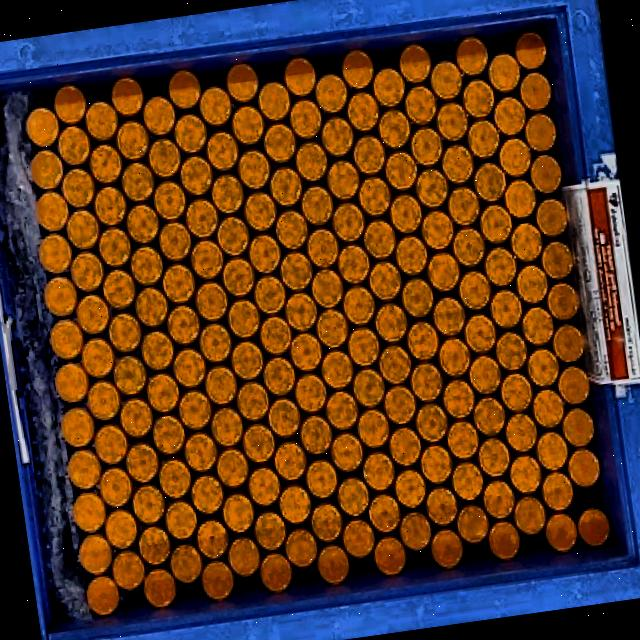vial: (456, 503, 490, 545), (484, 246, 518, 287), (452, 226, 486, 267), (85, 100, 119, 141), (567, 448, 601, 489), (577, 507, 611, 548), (482, 479, 516, 520), (514, 30, 548, 70), (521, 306, 555, 346), (458, 270, 492, 310), (404, 85, 438, 125), (263, 123, 297, 163), (231, 105, 265, 145), (236, 381, 270, 421), (179, 155, 213, 195), (185, 198, 219, 238), (178, 390, 212, 430), (116, 120, 150, 160), (89, 144, 123, 184), (26, 107, 60, 147), (62, 168, 96, 208), (81, 338, 115, 378), (87, 381, 121, 421), (513, 495, 547, 535), (425, 486, 459, 526), (242, 424, 276, 464), (184, 432, 218, 472), (195, 519, 229, 559), (132, 484, 166, 524), (143, 568, 177, 608), (99, 467, 133, 507), (67, 450, 101, 490), (456, 36, 489, 77), (546, 281, 579, 322), (347, 91, 380, 132), (358, 176, 391, 217), (268, 397, 301, 438), (39, 233, 72, 274), (50, 319, 83, 360), (279, 484, 312, 525), (285, 528, 318, 569), (228, 536, 261, 577), (79, 534, 112, 575), (87, 575, 120, 616), (515, 265, 549, 304), (113, 356, 147, 395), (53, 85, 87, 124), (55, 363, 89, 402), (487, 521, 521, 560), (430, 529, 464, 568), (259, 553, 293, 592), (488, 53, 521, 93), (399, 43, 432, 83), (519, 71, 552, 111), (524, 112, 557, 152), (535, 197, 568, 237), (499, 137, 532, 177), (504, 179, 537, 219), (510, 222, 543, 262), (462, 78, 495, 118), (467, 119, 500, 159), (480, 204, 513, 244), (490, 289, 523, 329), (495, 331, 528, 371), (464, 314, 497, 354), (469, 355, 502, 395), (410, 127, 443, 167), (416, 168, 449, 208), (421, 210, 454, 250), (442, 379, 475, 419), (378, 108, 411, 148), (401, 278, 434, 318), (353, 135, 386, 175), (369, 261, 402, 301), (375, 303, 408, 343), (315, 73, 348, 113), (321, 116, 354, 156), (327, 160, 360, 200), (332, 202, 365, 242), (337, 244, 370, 284), (316, 308, 349, 348), (258, 81, 291, 121), (289, 332, 322, 372), (226, 63, 259, 103), (238, 149, 271, 189), (249, 233, 282, 273), (199, 86, 232, 126), (206, 131, 239, 171), (217, 216, 250, 256), (222, 257, 255, 297), (174, 114, 207, 154), (191, 239, 224, 279), (195, 281, 228, 321), (211, 407, 244, 447), (143, 96, 176, 136), (148, 138, 181, 178), (159, 221, 192, 261), (167, 305, 200, 345), (173, 348, 206, 388), (135, 287, 168, 327), (98, 227, 131, 267), (103, 269, 136, 309), (109, 313, 142, 353), (120, 398, 153, 438), (71, 252, 104, 292), (36, 192, 69, 232), (44, 277, 77, 317), (61, 407, 94, 447), (562, 407, 595, 447), (536, 431, 569, 471), (541, 471, 574, 511), (505, 413, 538, 453), (509, 454, 542, 494), (473, 396, 506, 436), (478, 437, 511, 477), (447, 420, 480, 460), (451, 461, 484, 501), (420, 444, 453, 484), (399, 511, 432, 551), (368, 493, 401, 533), (337, 477, 370, 517), (317, 544, 350, 584), (274, 441, 307, 481), (201, 560, 234, 600), (170, 543, 203, 583), (126, 443, 159, 483), (112, 550, 145, 590), (73, 492, 106, 532), (558, 365, 590, 406), (364, 219, 396, 260), (165, 500, 197, 541), (430, 61, 463, 100), (541, 241, 574, 280), (527, 348, 560, 387), (474, 163, 507, 202), (500, 373, 533, 412), (436, 102, 469, 141), (427, 252, 460, 291), (433, 297, 466, 336), (438, 338, 471, 377), (385, 151, 418, 190), (395, 236, 428, 275), (410, 363, 443, 402), (384, 385, 417, 424), (284, 57, 317, 96), (321, 350, 354, 389), (326, 391, 359, 430), (270, 167, 303, 206), (275, 210, 308, 249), (254, 275, 287, 314), (227, 299, 260, 338), (231, 341, 264, 380), (111, 77, 144, 116), (122, 162, 155, 201), (126, 204, 159, 243), (67, 210, 100, 249), (76, 295, 109, 334), (95, 425, 128, 464), (532, 389, 565, 428), (545, 513, 578, 552), (415, 403, 448, 442), (389, 427, 422, 466), (374, 536, 407, 575), (342, 519, 375, 558), (311, 503, 344, 542), (248, 467, 281, 506), (253, 511, 286, 550), (216, 449, 249, 488), (191, 475, 224, 514), (105, 510, 138, 549), (301, 185, 333, 225), (373, 67, 405, 107), (552, 323, 584, 363), (442, 144, 474, 184), (343, 285, 375, 325), (353, 368, 385, 408), (290, 99, 322, 139), (296, 141, 328, 181), (307, 228, 339, 268), (280, 252, 312, 292), (295, 373, 327, 413), (154, 180, 186, 220), (153, 415, 185, 455), (31, 150, 63, 190), (395, 469, 427, 509), (159, 459, 191, 499), (379, 346, 412, 384), (168, 70, 201, 108), (205, 366, 238, 404), (58, 127, 91, 165), (305, 460, 338, 498), (494, 96, 526, 135), (448, 186, 480, 225), (390, 194, 422, 233), (407, 321, 439, 360), (311, 269, 343, 308), (285, 292, 317, 331), (263, 357, 295, 396), (212, 174, 244, 213), (163, 265, 195, 304), (131, 246, 163, 285), (142, 331, 174, 370), (147, 373, 179, 412), (95, 186, 127, 225), (357, 409, 389, 448), (363, 452, 395, 491), (331, 433, 363, 472), (300, 415, 332, 454), (223, 494, 255, 533), (139, 526, 171, 565), (342, 50, 374, 88), (530, 155, 562, 193), (348, 328, 380, 366), (244, 192, 276, 230), (200, 324, 232, 362), (260, 316, 291, 355)
